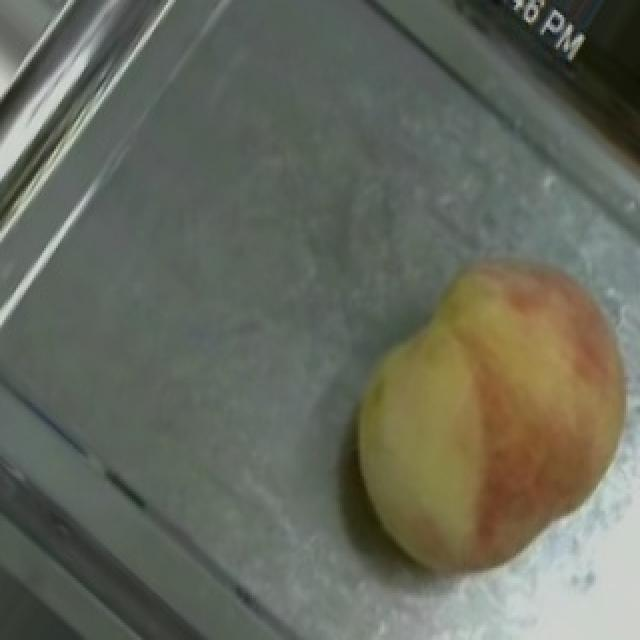Fruit: (306, 305, 636, 608)
